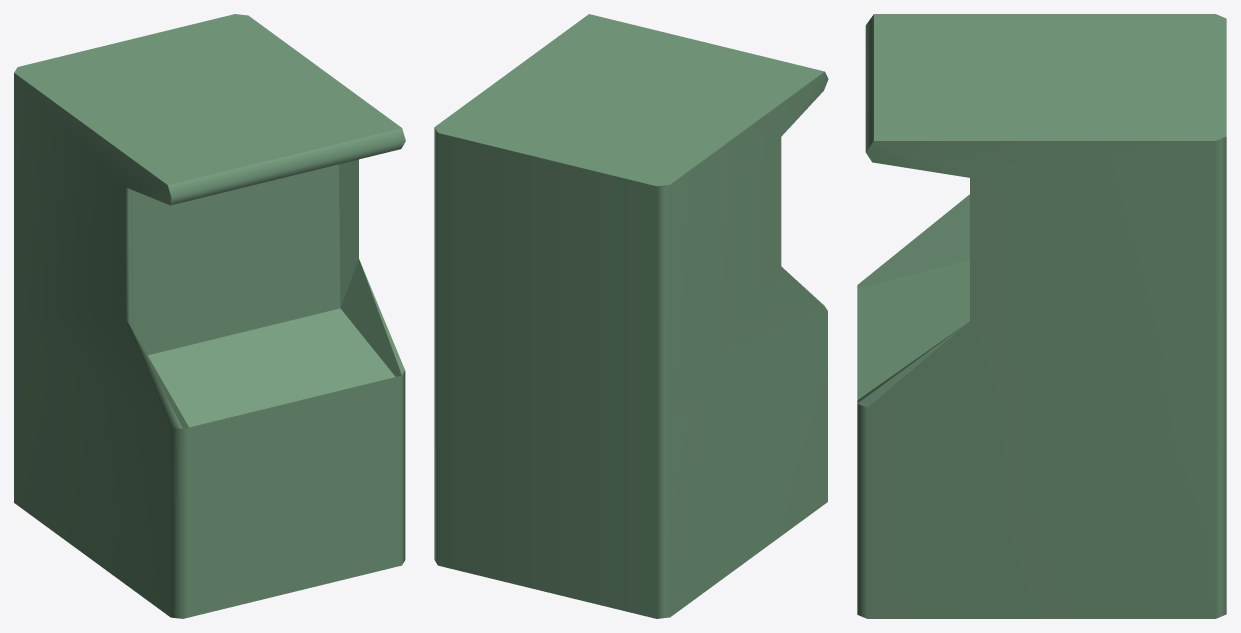
File: StoringPc_01.fbx
3 views of the same model, side by side, from view 1: azimuth 30°, elevation 25°; view 2: azimuth 150°, elevation 25°; view 3: azimuth 270°, elevation 25° (orthographic). The views are drawn at different scales.
Parts seen in each view (by area): view 1: StoringPc_01; view 2: StoringPc_01; view 3: StoringPc_01.
Part boxes in pixels (x1,y1,x2,y2): StoringPc_01: [14, 14, 405, 618]; StoringPc_01: [434, 14, 828, 618]; StoringPc_01: [857, 14, 1226, 618].
Size of the model in its own units: 0.057 by 0.1 by 0.07.
